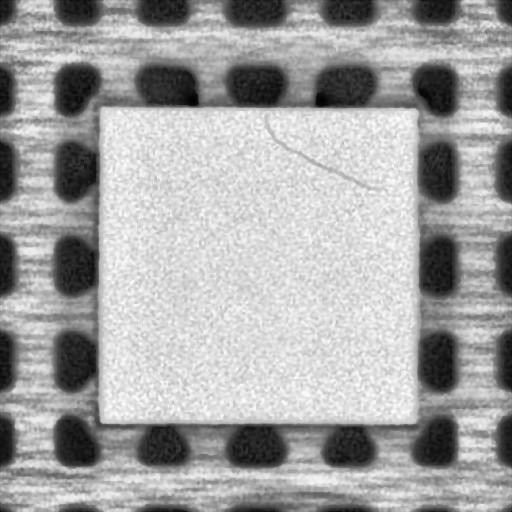DIE_CRACK: (263, 112, 375, 191)
